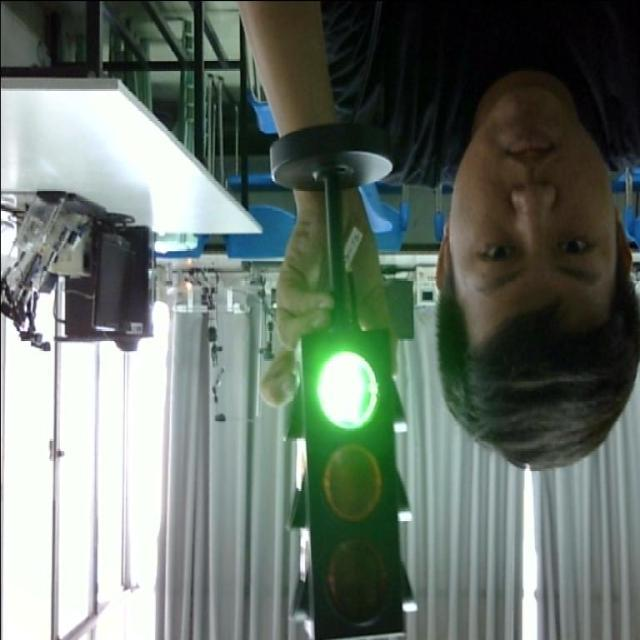green light: (293, 334, 385, 430)
